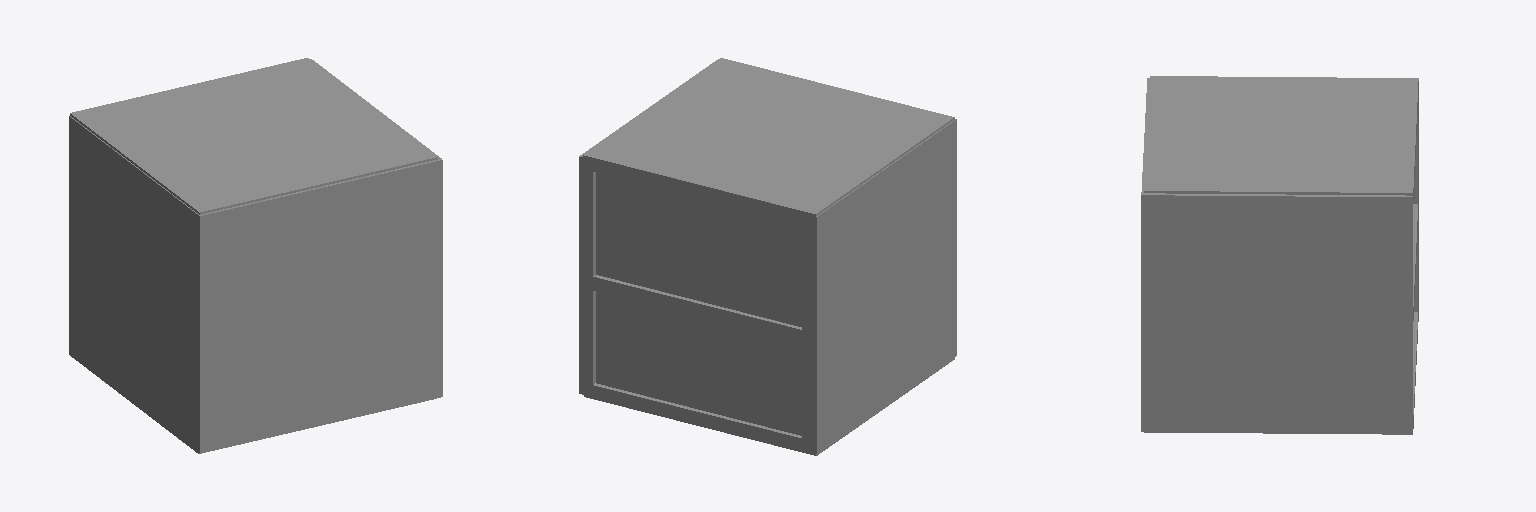
File: cupboard.obj
3 views of the same model, side by side, from view 1: azimuth 30°, elevation 25°; view 2: azimuth 150°, elevation 25°; view 3: azimuth 270°, elevation 25° (orthographic).
Parts seen in each view (by area): view 1: Cube.006, Cube.005, Cube.007; view 2: Cube.007, Cube.005, Cube.006_Cube.008, Cube.008, Cube.004, Cube.002, Cube.003; view 3: Cube.004, Cube.005, Cube.006, Cube.007.
Boxes of the visible parts, x1=… form: Cube.006: x1=195, y1=154, x2=442, y2=452; Cube.005: x1=70, y1=58, x2=437, y2=214; Cube.007: x1=69, y1=116, x2=198, y2=451; Cube.007: x1=802, y1=120, x2=955, y2=453; Cube.005: x1=583, y1=58, x2=954, y2=226; Cube.006_Cube.008: x1=596, y1=173, x2=801, y2=326; Cube.008: x1=596, y1=291, x2=801, y2=435; Cube.004: x1=579, y1=60, x2=716, y2=395; Cube.002: x1=584, y1=358, x2=954, y2=455; Cube.003: x1=584, y1=275, x2=815, y2=346; Cube.004: x1=1144, y1=193, x2=1412, y2=434; Cube.005: x1=1144, y1=76, x2=1418, y2=201; Cube.006: x1=1141, y1=78, x2=1157, y2=431; Cube.007: x1=1413, y1=83, x2=1418, y2=311.
Bounding box in the file's own units: 1.04 × 0.9826 × 1.02.